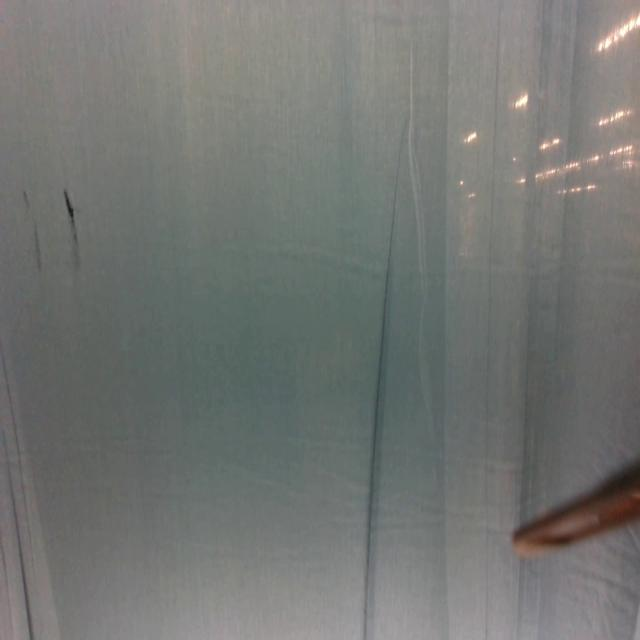crease: (361, 113, 410, 638), (482, 0, 503, 640), (0, 339, 38, 640)
hole: (64, 188, 82, 247), (32, 225, 47, 274), (23, 189, 30, 215)
